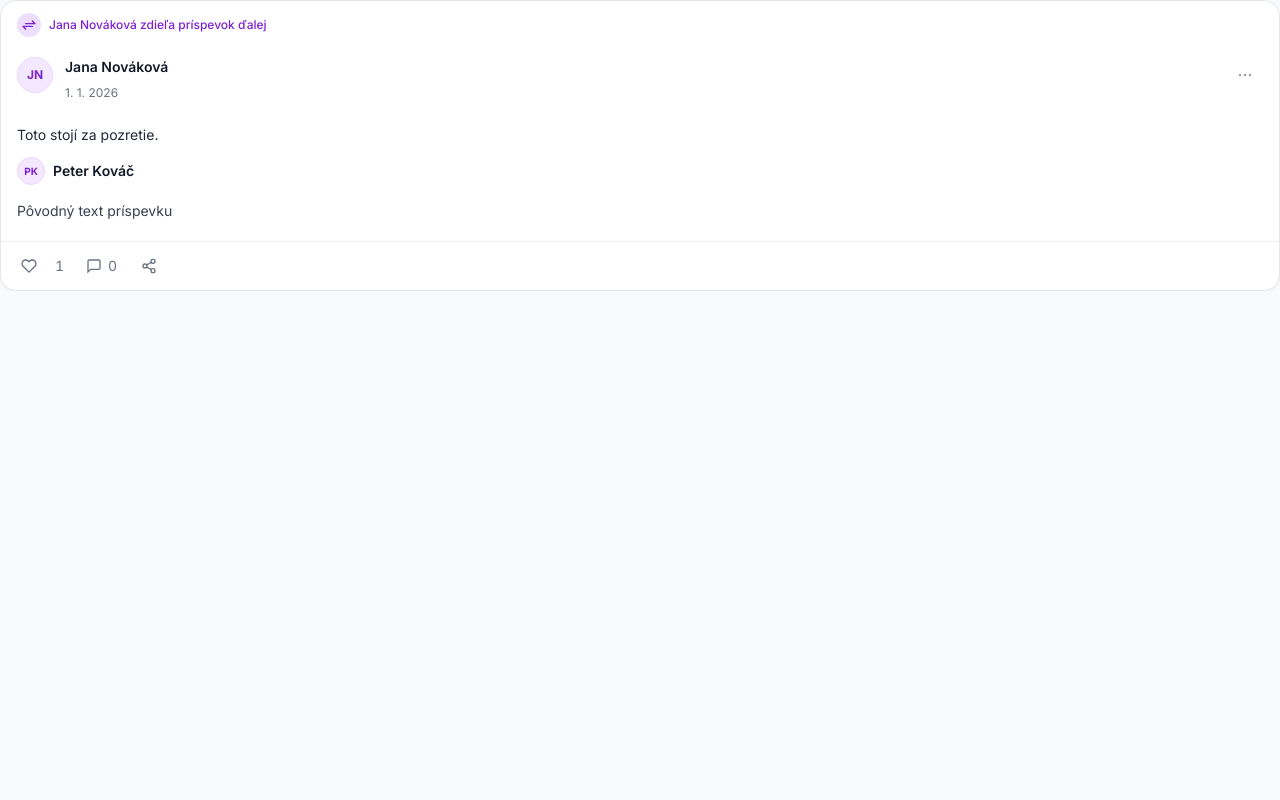
Test: smerovanie zo zdieľanej karty › opens the detail from a reposted post preview, which is not an offer card
Click the button with test id "feed-shared-post-preview-open": (95, 210) top-left (17, 193), bottom-right (1263, 229)
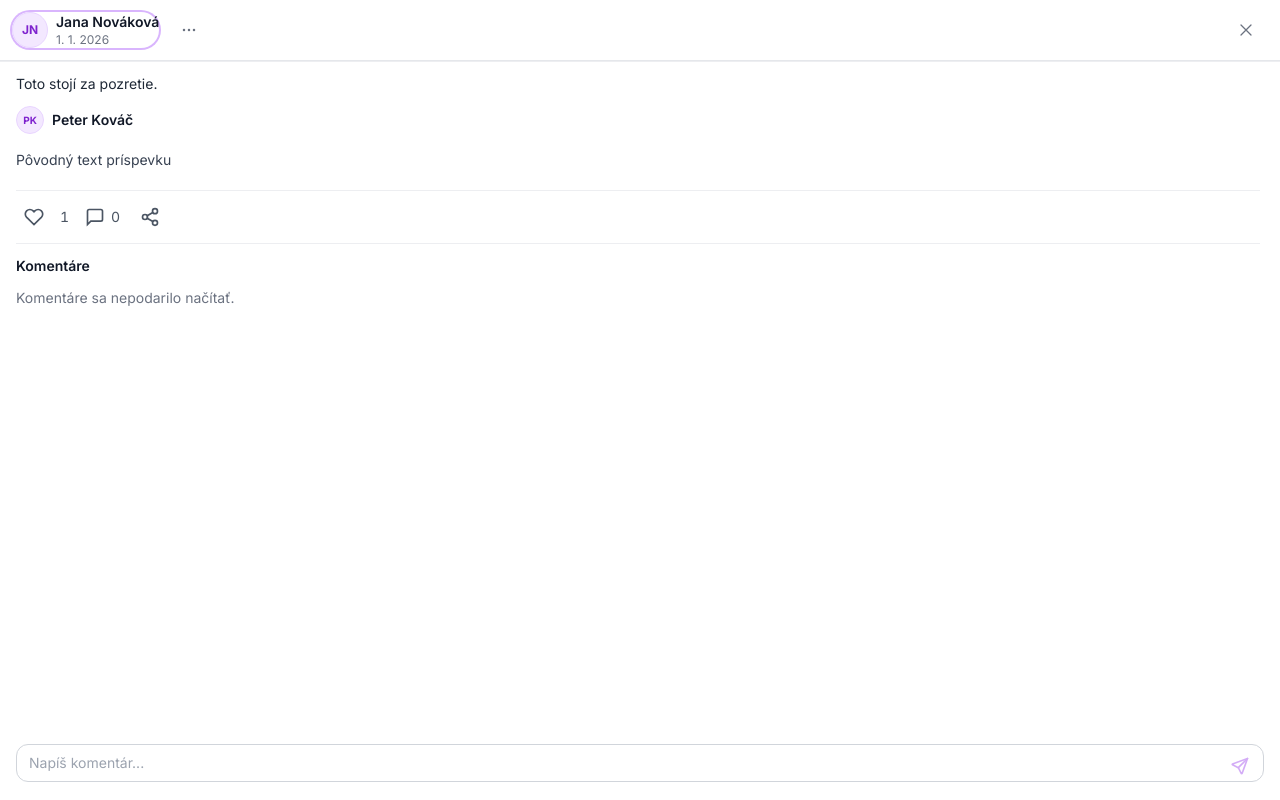
Expected: the dialog with test id "feed-mobile-detail" is shown
